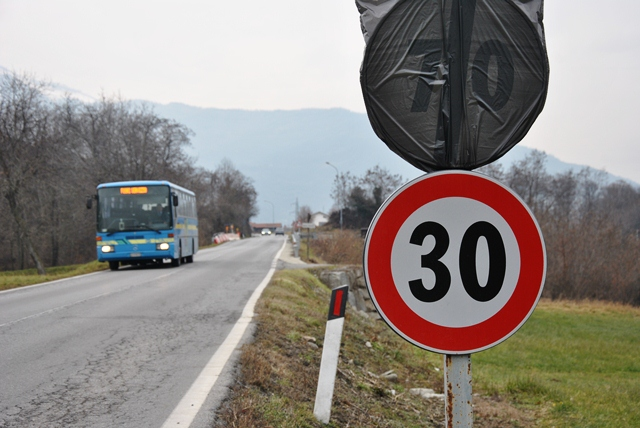Speed_limit_30km: (364, 171, 548, 353)
